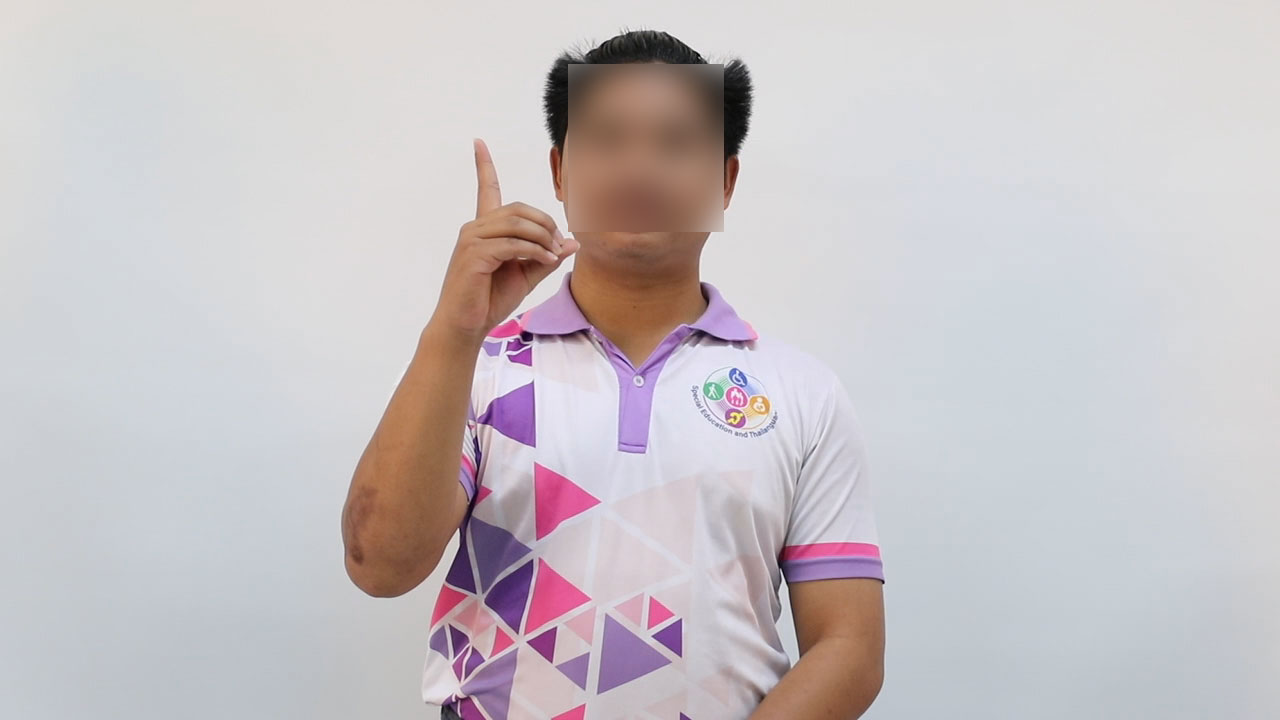dor: (411, 129, 591, 357)
